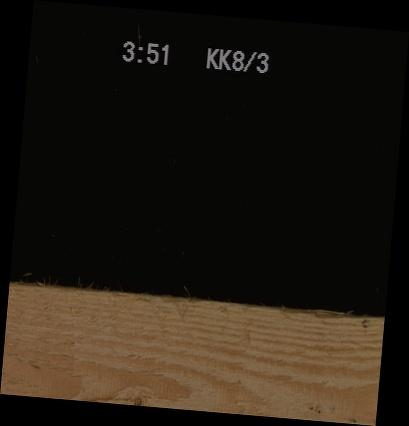edge_knot: (130, 394, 141, 405)
